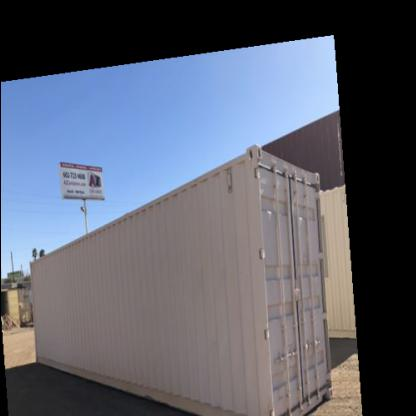Damage: (160, 227, 184, 270)
